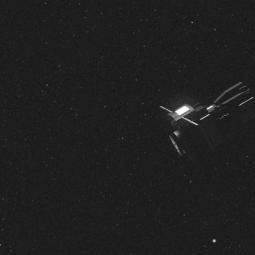soho: (160, 76, 255, 162)
